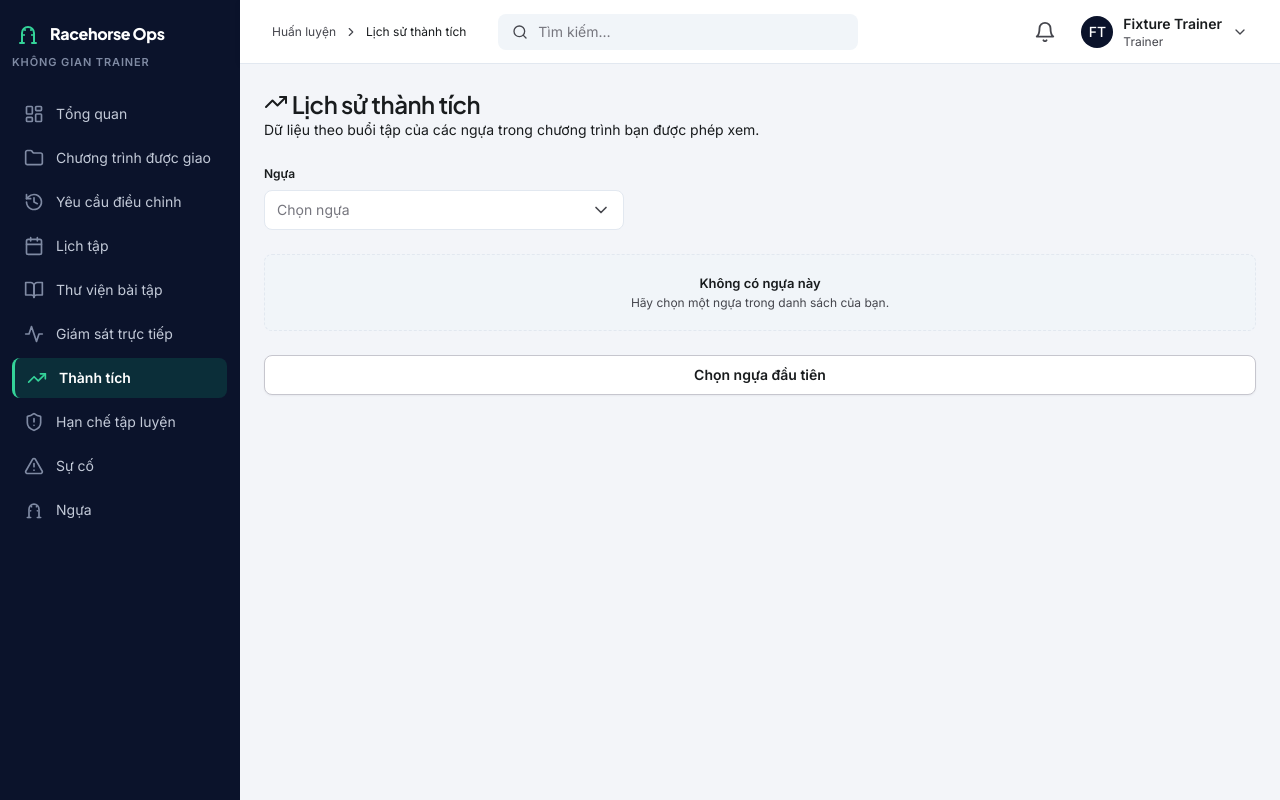
it: does not query performance for an invalid or out-of-list horse ID
Expected: the text "Không có ngựa này" is shown, [699,275,821,291]
Click the button "Chọn ngựa đầu tiên" at coordinates (760, 375), box [264,355,1256,395]
(page scrolled)
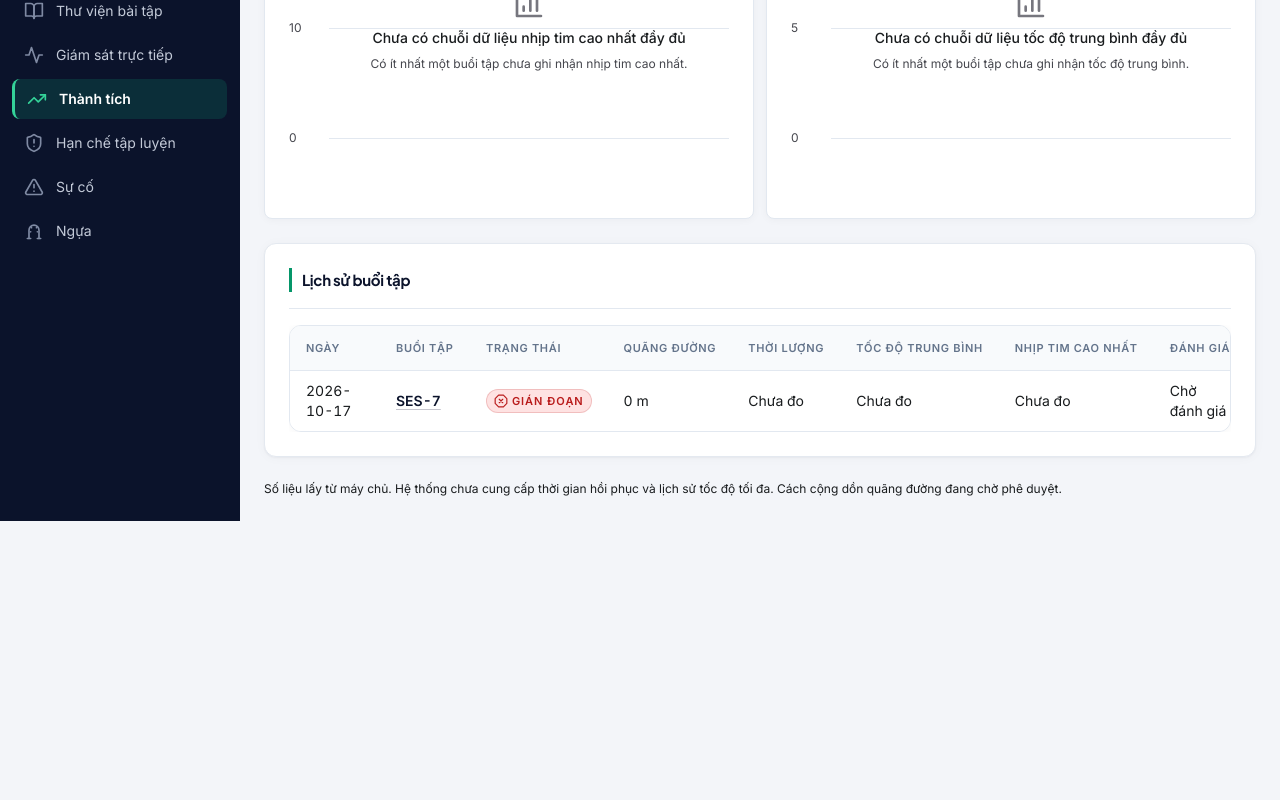
Now the link "SES-7" is shown, box [396,392,441,409]
